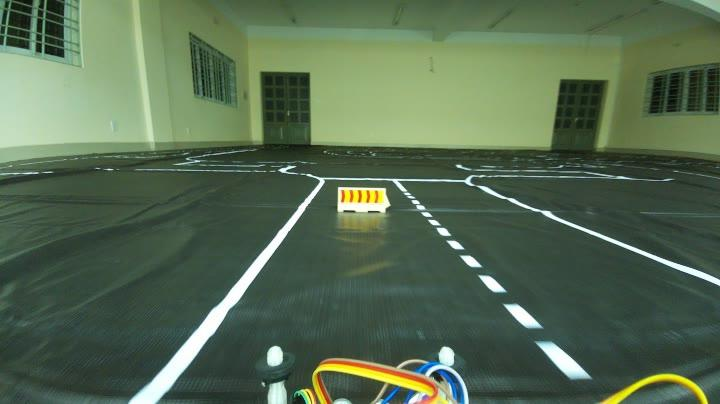roadblock: (334, 184, 396, 218)
